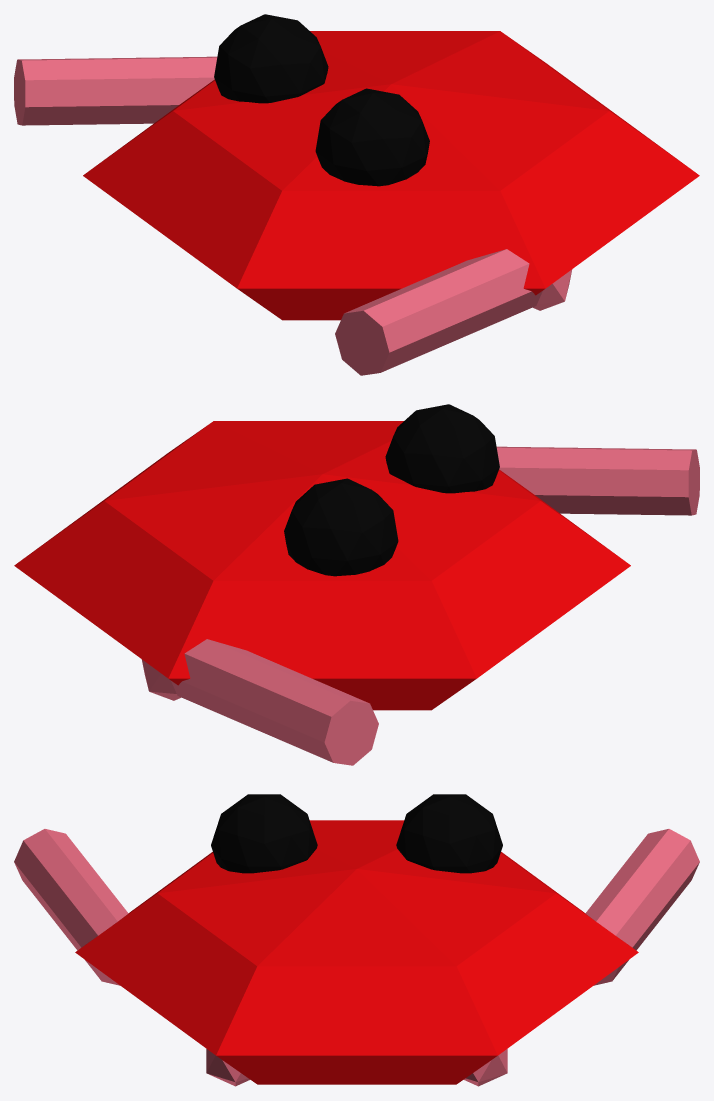
The model's file is Kreb.glb.
The picture shows the model from 3 angles, top to bottom: view 1: azimuth 30°, elevation 25°; view 2: azimuth 150°, elevation 25°; view 3: azimuth 270°, elevation 25°; orthographic projection. The views are drawn at different scales.
Parts seen in each view (by area): view 1: Kreb; view 2: Kreb; view 3: Kreb.
Boxes of the visible parts, x1,y1,x2,y2 form: Kreb: (14, 14, 699, 375); Kreb: (14, 404, 699, 765); Kreb: (14, 794, 699, 1086).
Bounding box in the file's own units: 1.73 × 0.8691 × 2.43.
